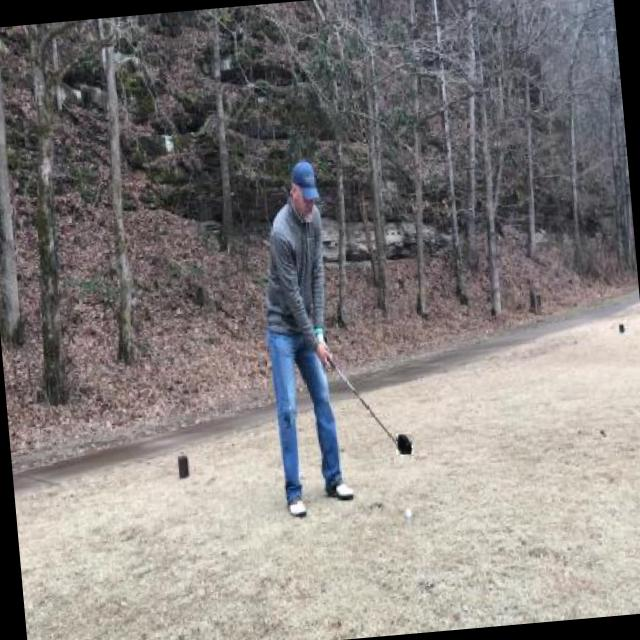club head: (394, 432, 413, 456)
